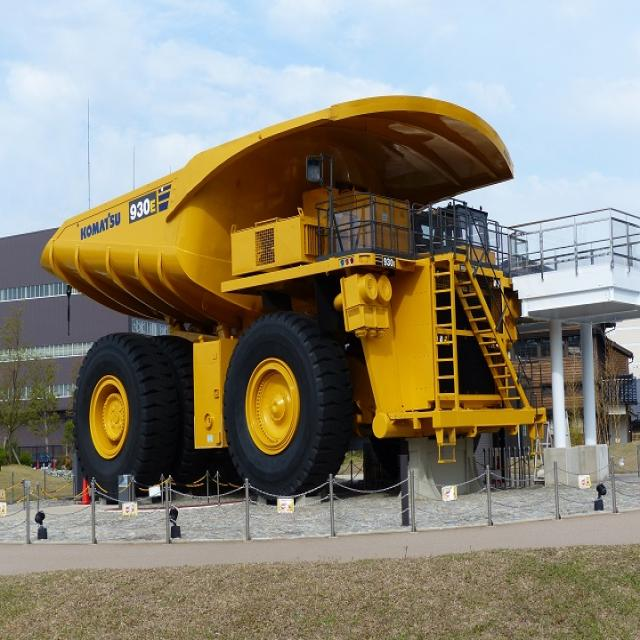dump_truck: (36, 86, 557, 488)
